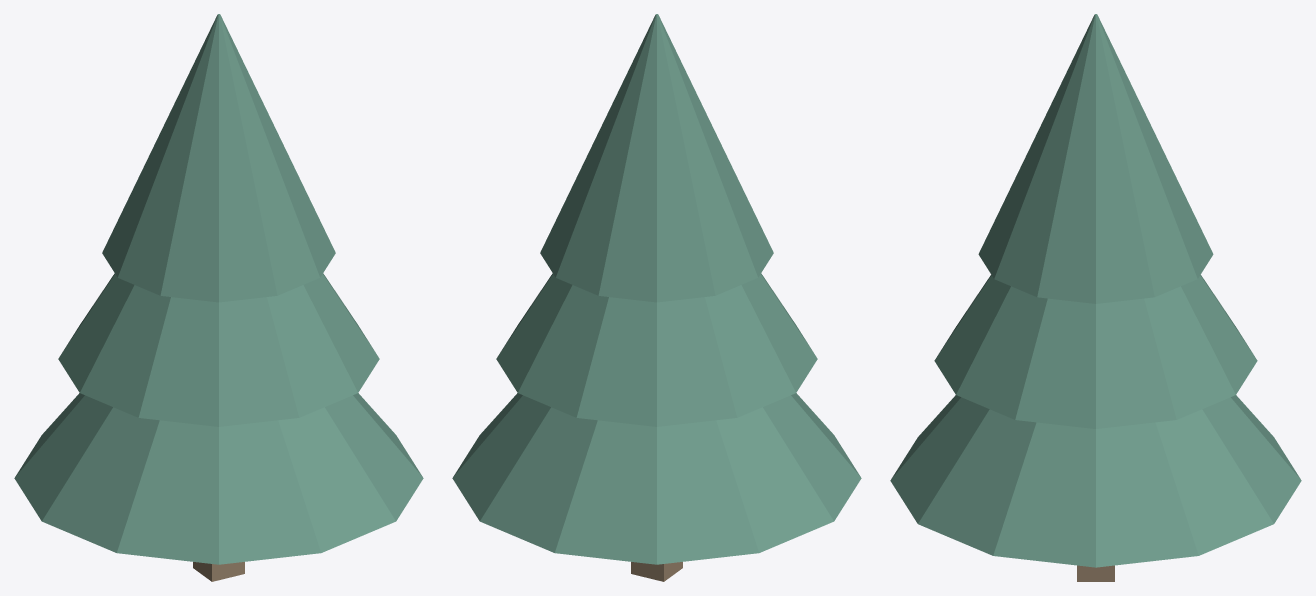
The model's file is pine.glb.
3 renders of one model, left to right at view 1: azimuth 30°, elevation 25°; view 2: azimuth 150°, elevation 25°; view 3: azimuth 270°, elevation 25°, orthographic.
Bounding box in the file's own units: 2.8 × 4.2 × 2.8.
